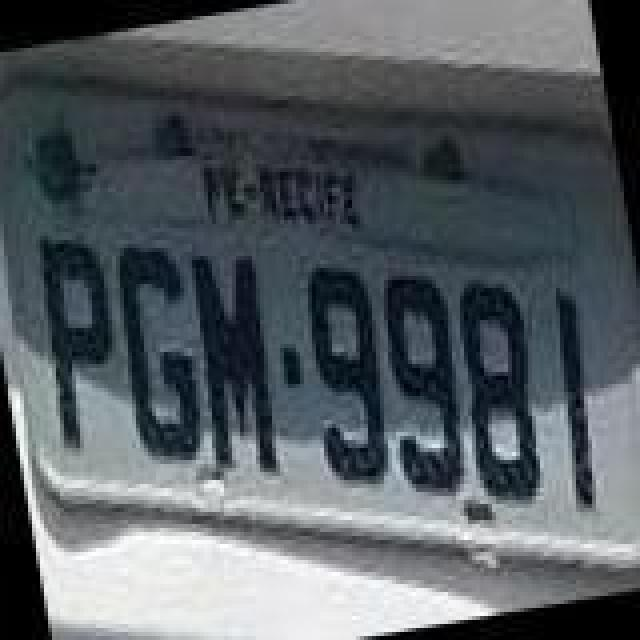1: (538, 284, 614, 516)
8: (442, 270, 558, 514)
9: (366, 264, 482, 504), (292, 258, 404, 494)
G: (104, 232, 216, 472)
M: (180, 246, 292, 490)
P: (24, 224, 136, 456)
